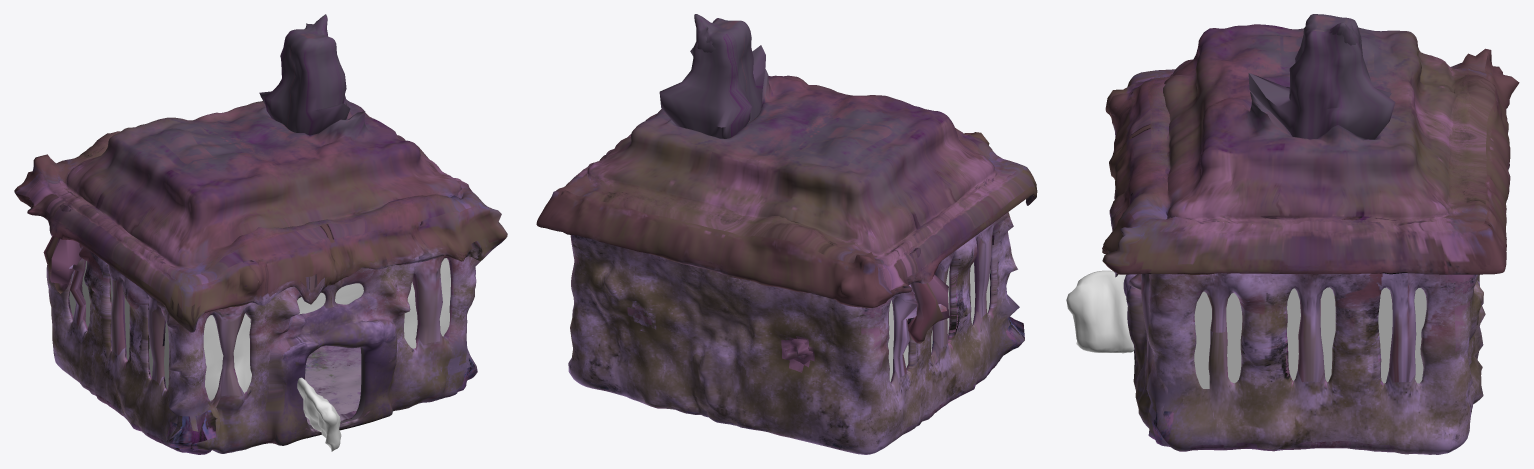
File: Snowy's house 2.fbx
The picture shows the model from 3 angles, left to right: view 1: azimuth 30°, elevation 25°; view 2: azimuth 150°, elevation 25°; view 3: azimuth 270°, elevation 25°; orthographic projection. The views are drawn at different scales.
Visible parts, largest first — view 1: house, Plane.001, door; view 2: house, Plane.001; view 3: house, Plane.001, door.
Boxes of the visible parts, x1,y1,x2,y2 form: house: (14,14,507,454); Plane.001: (69,258,450,400); door: (297,377,341,451); house: (536,14,1037,454); Plane.001: (888,262,990,381); house: (1102,14,1519,454); Plane.001: (1194,287,1426,388); door: (1066,270,1134,353).
Bounding box in the file's own units: 1367 × 1271 × 1323.
Materials: 2 (1 with a texture image).
